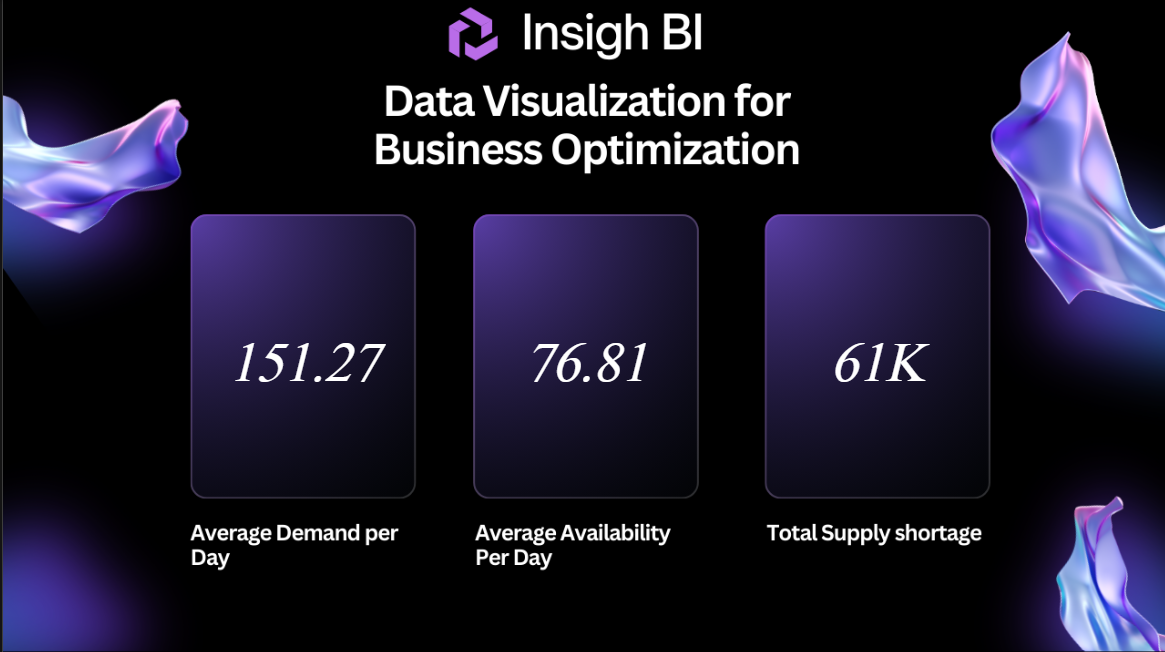

Layout of this report page (visuals, bound fields, positions):
{"tool":"powerbi","page":{"name":"Page 1","canvas":[1280,720],"ordinal":0},"visuals":[{"type":"card","fields":{"Values":["Measure Table.Average Demand Per Day"]},"box":[218.2,237.4,223.7,310.1],"z":0},{"type":"card","fields":{"Values":["Measure Table.Average Availability Per Day"]},"box":[528.3,237.4,223.7,310.1],"z":1000},{"type":"card","fields":{"Values":["Measure Table.Total Supply Shortage"]},"box":[848,237.4,223.7,310.1],"z":2000}]}

Visuals, with their boxes in screenshot pixels (x1, y1, x2, y2), scaled from the page's 1280x720 canvas onto the 1165x652 screenshot:
card - Measure Table.Average Demand Per Day: box=[199, 215, 402, 496]
card - Measure Table.Average Availability Per Day: box=[481, 215, 684, 496]
card - Measure Table.Total Supply Shortage: box=[772, 215, 975, 496]
